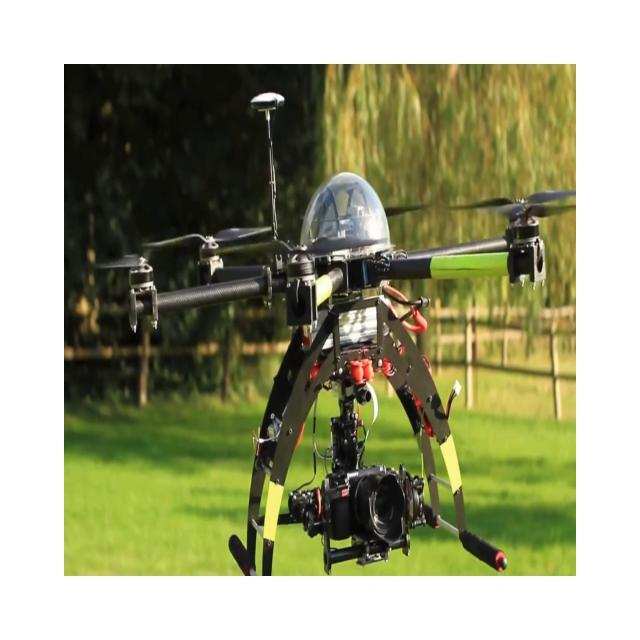drone: (92, 90, 575, 576)
